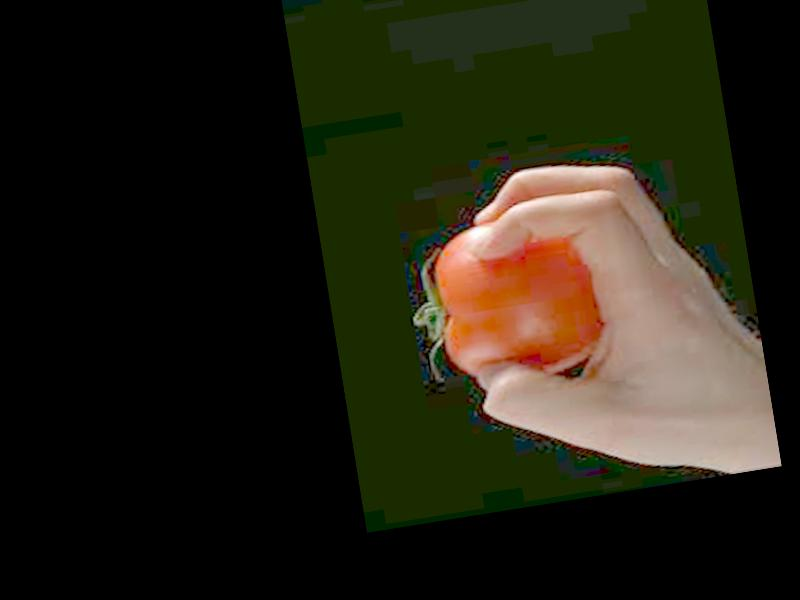Tomato: (403, 210, 603, 392)
